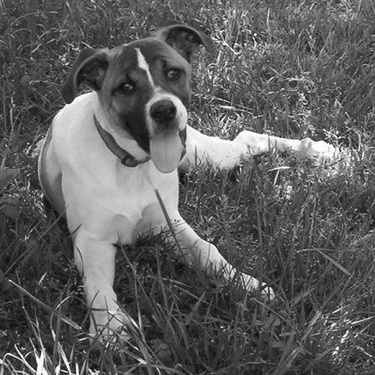dog: (19, 17, 355, 365)
